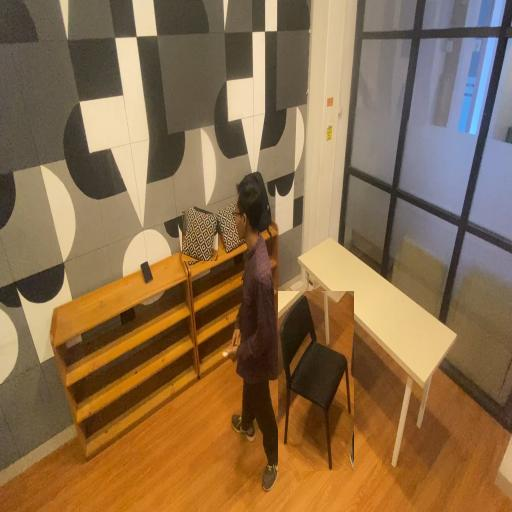bantal: (182, 206, 218, 261), (218, 200, 242, 250)
hp: (140, 257, 154, 285)
kursi: (278, 291, 354, 471)
lemari: (46, 274, 205, 464)
